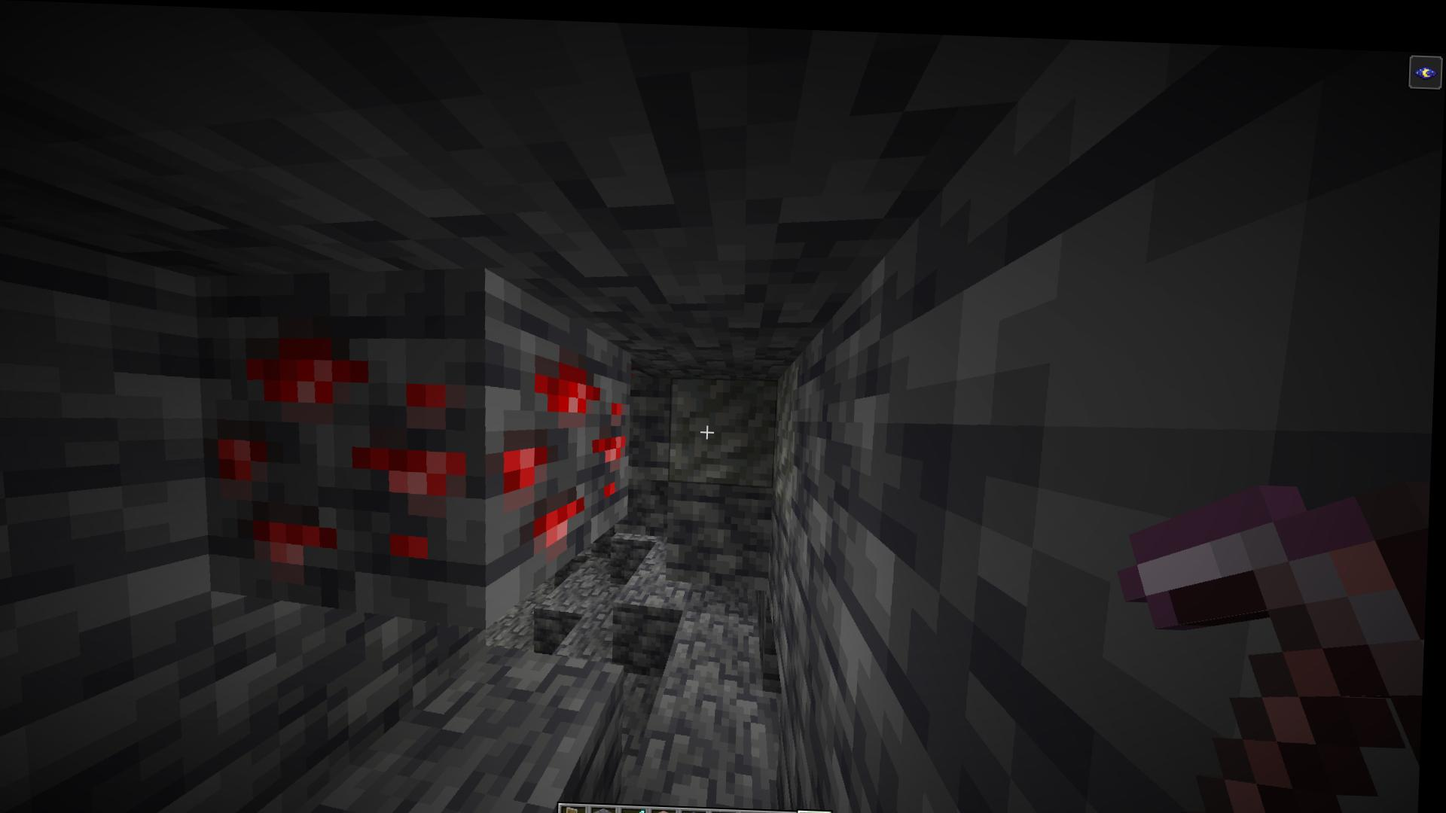redstone ore: (200, 316, 496, 596), (485, 330, 639, 549)
